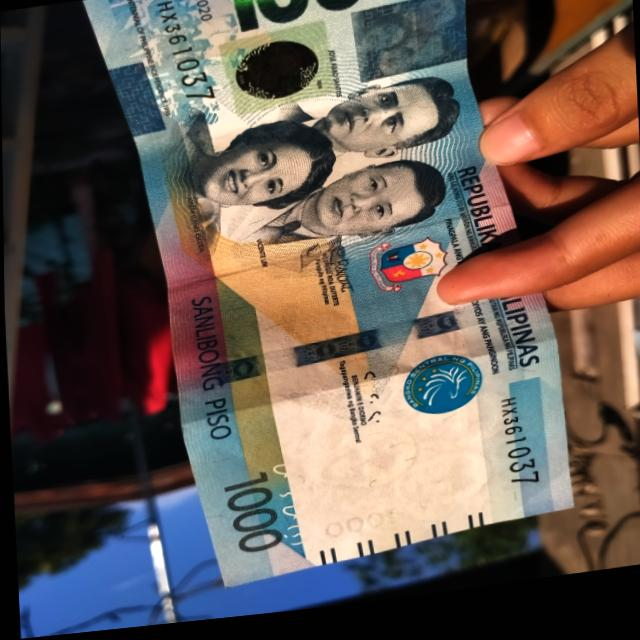concealed_value: (351, 0, 468, 91)
optically_variable_device: (217, 28, 336, 120)
see_through_mark: (268, 460, 312, 558)
serial_number: (489, 393, 554, 505)
value_watermark: (313, 516, 403, 546)
watermark: (310, 408, 516, 532)
